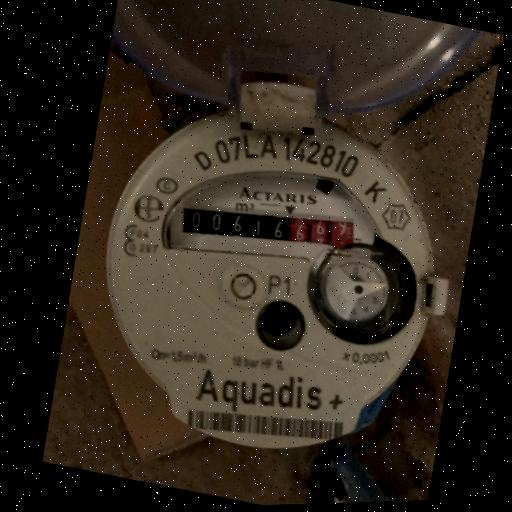0: (179, 205, 212, 237), (202, 208, 234, 239)
1: (244, 210, 274, 242)
6: (282, 214, 317, 248), (304, 215, 337, 248), (264, 212, 295, 245), (224, 208, 255, 240)
9: (326, 216, 360, 253)
border_water_meter_number: (169, 177, 368, 286)
